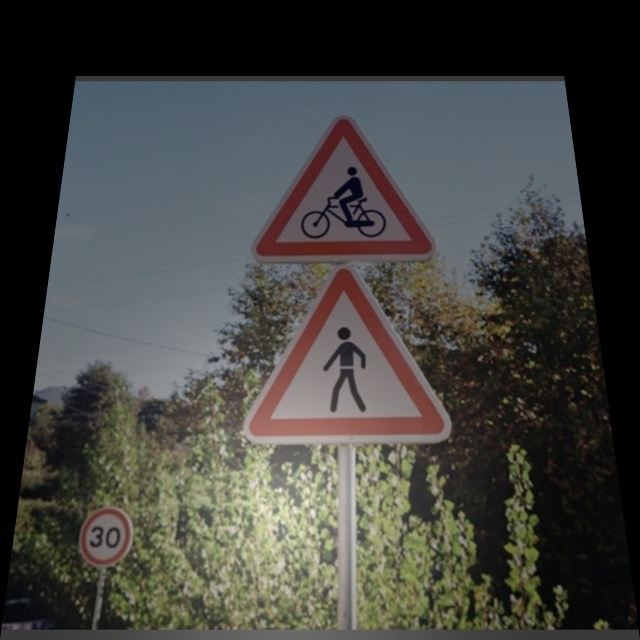Cycle_Crossing: (256, 112, 440, 261)
